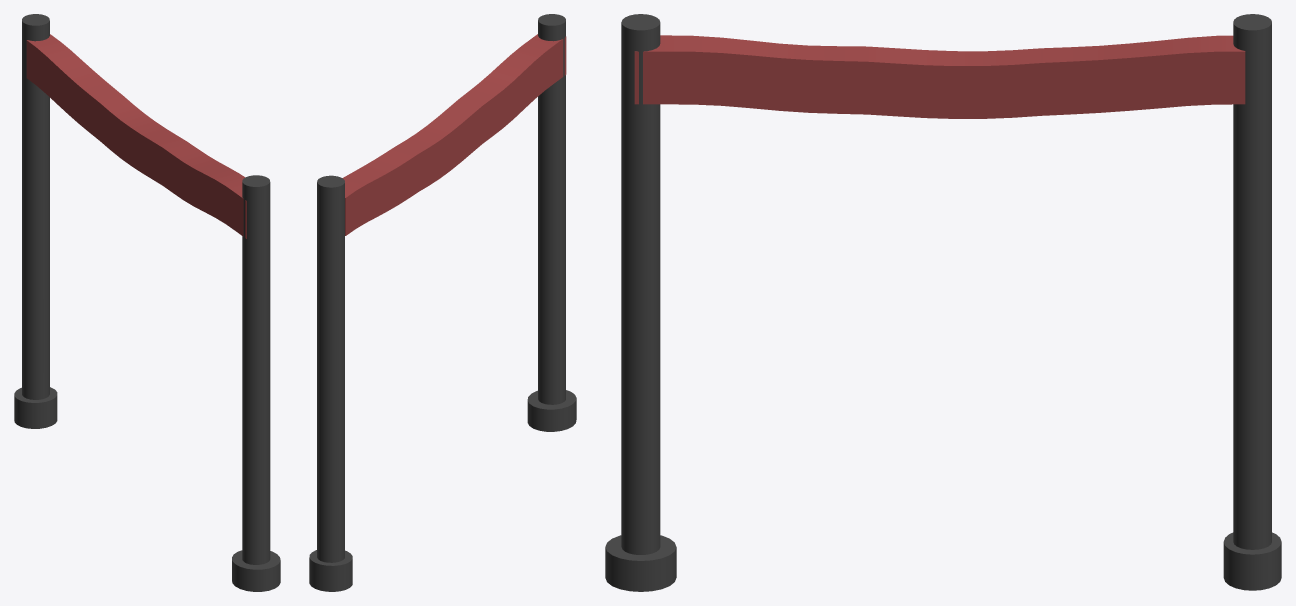
The model's file is liston.fbx.
3 renders of one model, left to right at view 1: azimuth 30°, elevation 25°; view 2: azimuth 150°, elevation 25°; view 3: azimuth 270°, elevation 25°, orthographic. The views are drawn at different scales.
Parts seen in each view (by area): view 1: pCylinder3; view 2: pCylinder3; view 3: pCylinder3.
Boxes of the visible parts, x1,y1,x2,y2 form: pCylinder3: [14, 14, 280, 591]; pCylinder3: [309, 14, 576, 591]; pCylinder3: [605, 14, 1281, 591].
Bounding box in the file's own units: 20.43 × 187 × 207.
